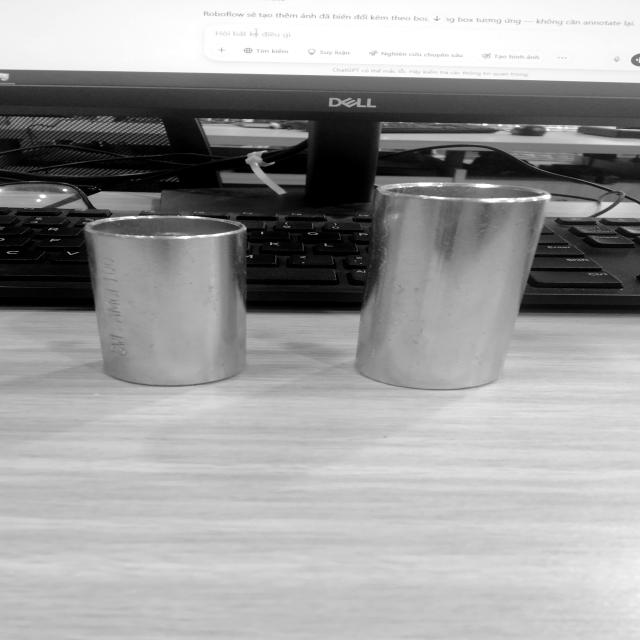Co_Lon: (352, 171, 551, 401)
Co_Nho: (83, 215, 247, 386)
